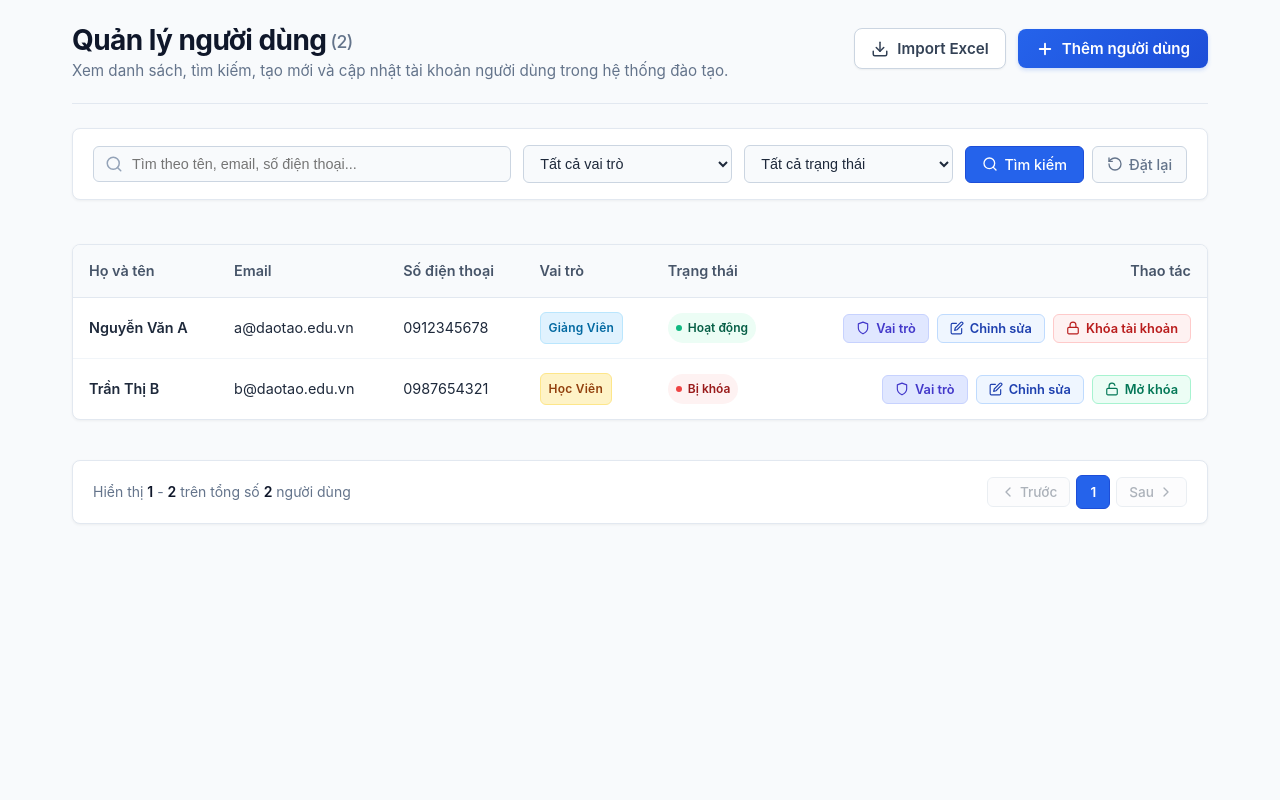
Test: SCRUM-89: User Management Page › 9. tạo người dùng thành công rồi mở lại modal đảm bảo form sạch và không lưu mật khẩu
Note: Mở modal tạo người dùng
Click the button with test id "btn-create-user" at (1113, 48), box [1018, 29, 1208, 68]
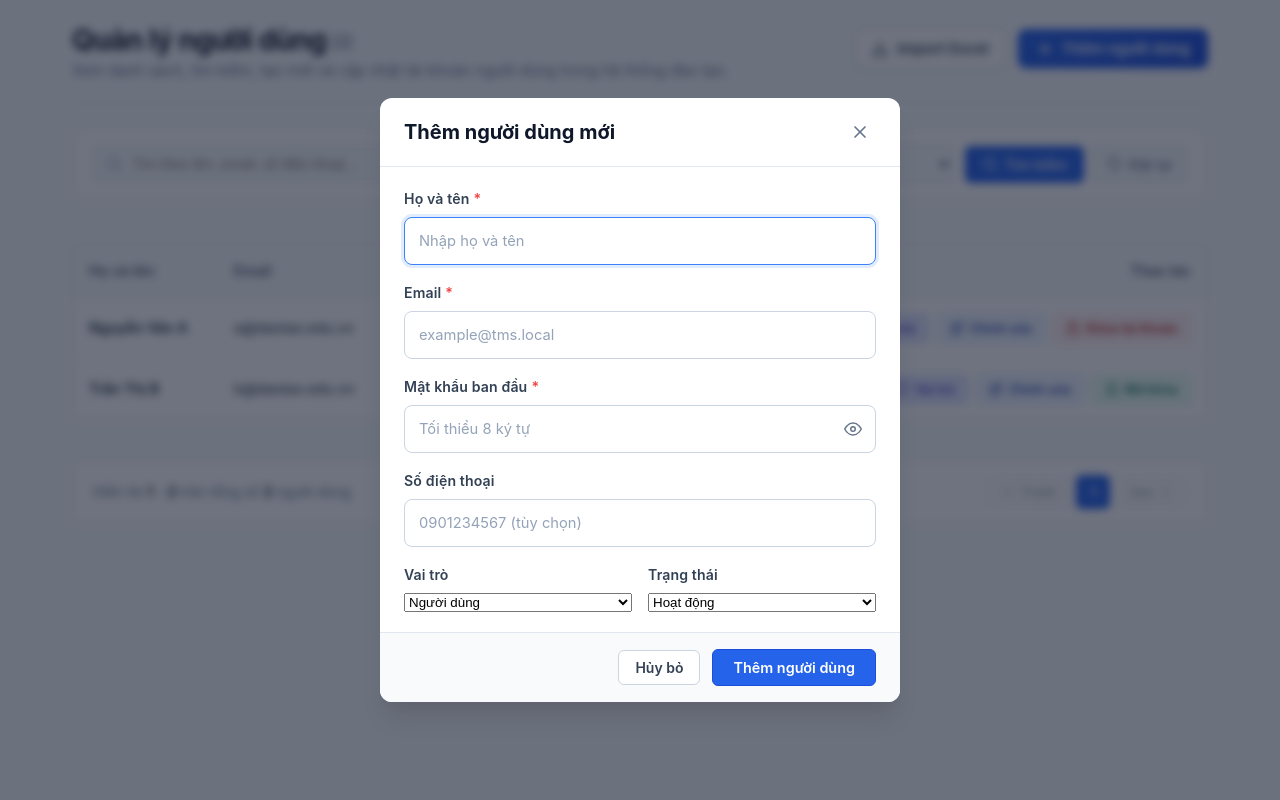
Now the dialog with test id "create-user-modal" is shown, box [380, 98, 900, 702]
Note: Nhập thông tin
Type "Người Dùng Mới" into the field with test id "input-create-name" at (640, 241), box [404, 217, 876, 265]
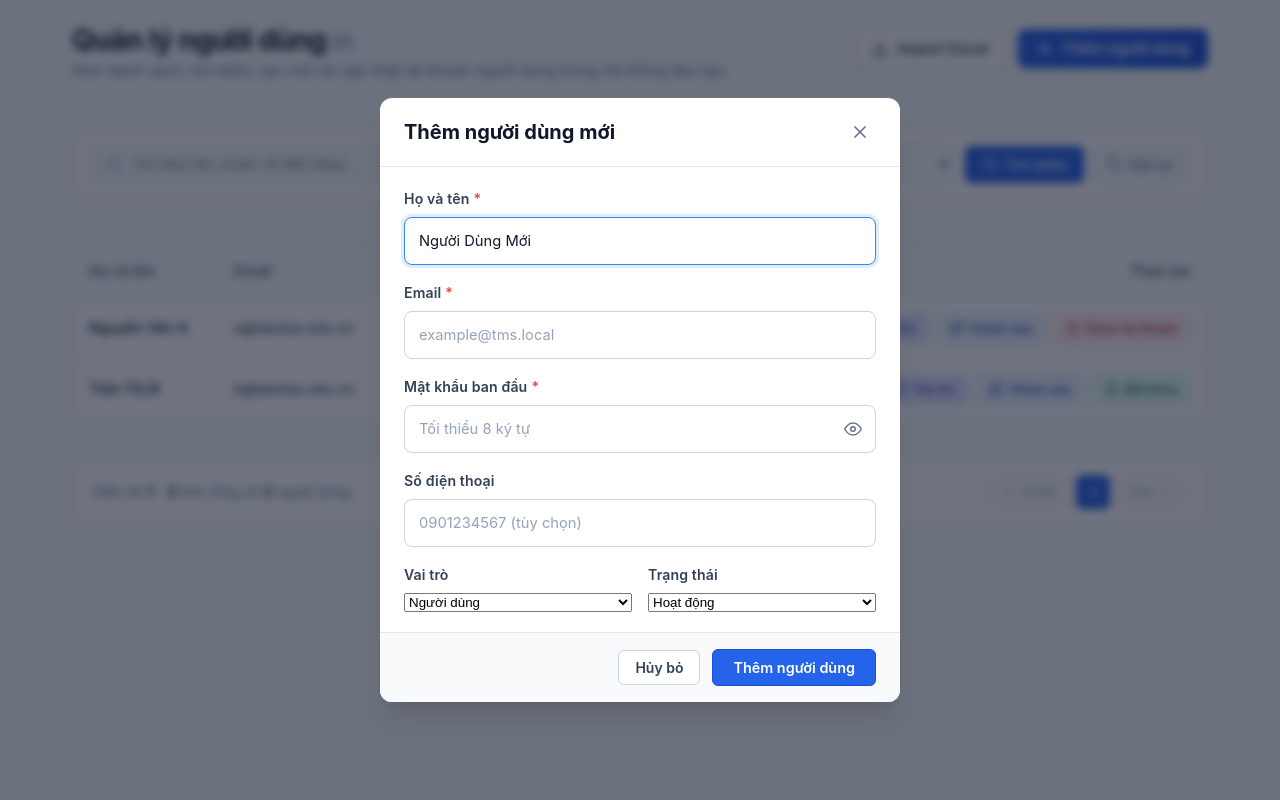
Type "newuser@daotao.edu.vn" into the field with test id "input-create-email" at (640, 335), box [404, 311, 876, 359]
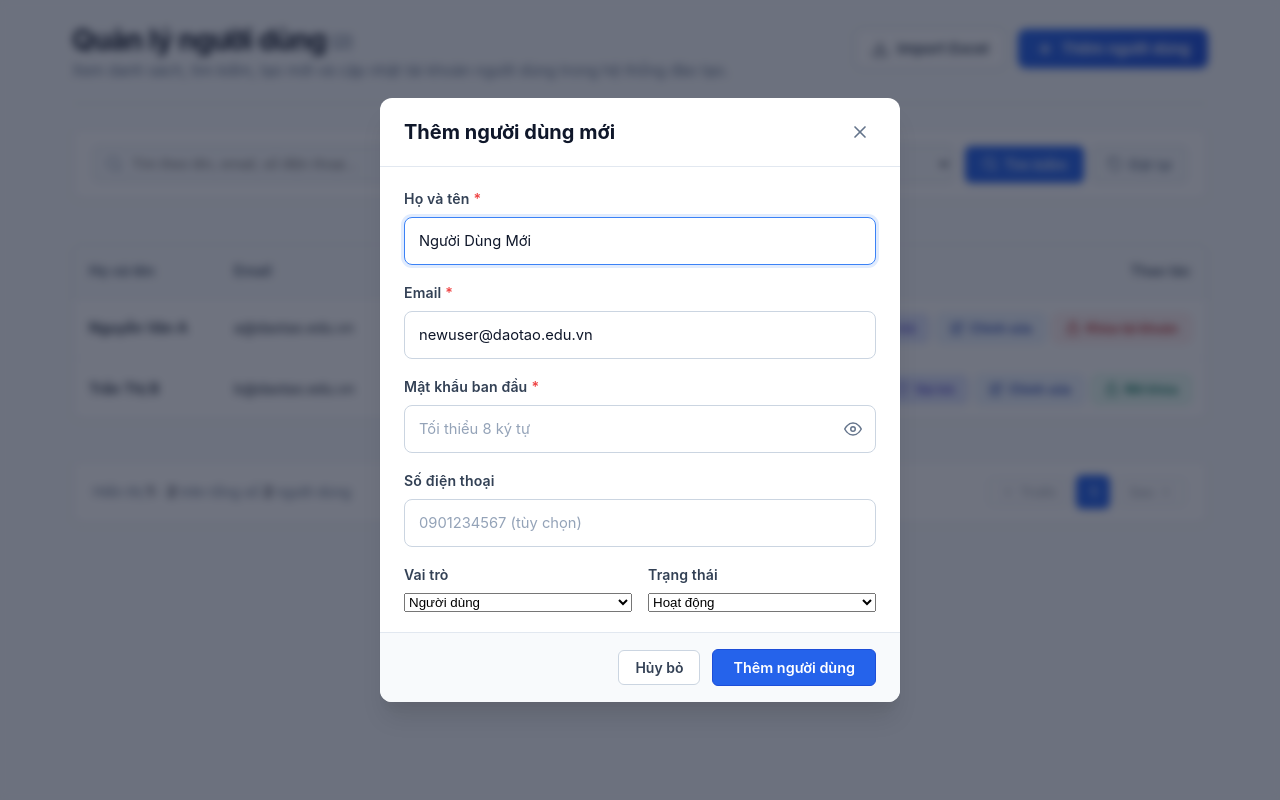
Type "Secret123!" into the password field with test id "input-create-password" at (640, 429), box [404, 405, 876, 453]
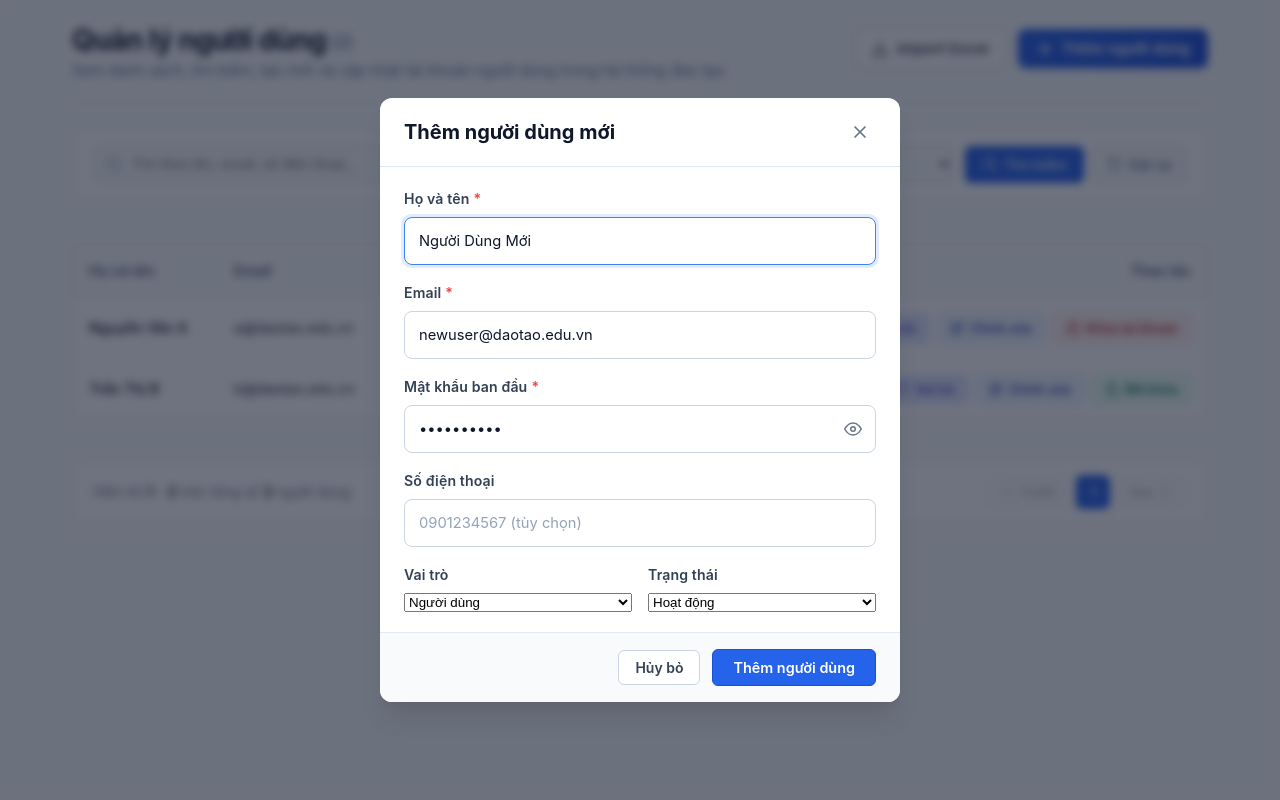
Click the button with test id "btn-submit-create" at (794, 668), box [712, 649, 876, 686]
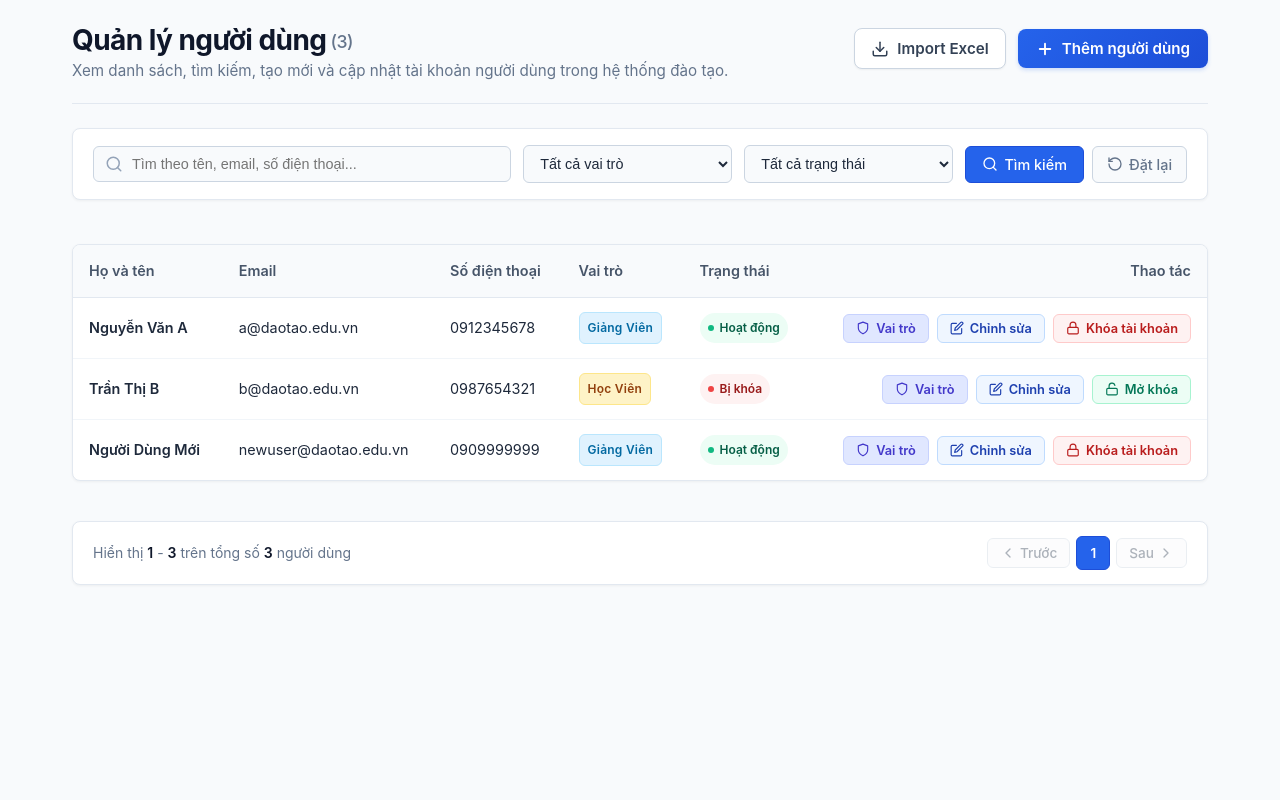
Now the dialog with test id "create-user-modal" is gone
Note: Mở lại modal
Click the button with test id "btn-create-user" at (1113, 48), box [1018, 29, 1208, 68]
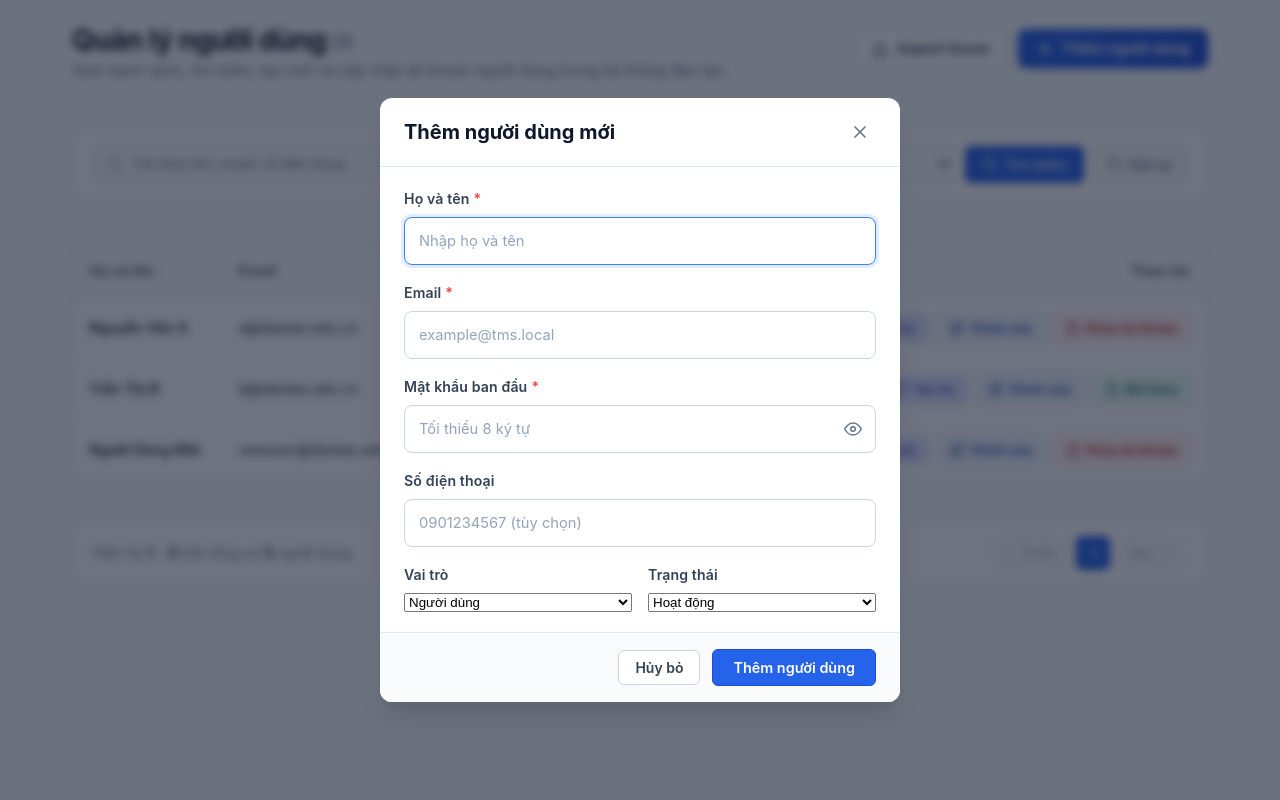
Now the dialog with test id "create-user-modal" is shown, box [380, 98, 900, 702]
Now the field with test id "input-create-name" is empty, box [404, 217, 876, 265]
Now the field with test id "input-create-email" is empty, box [404, 311, 876, 359]
